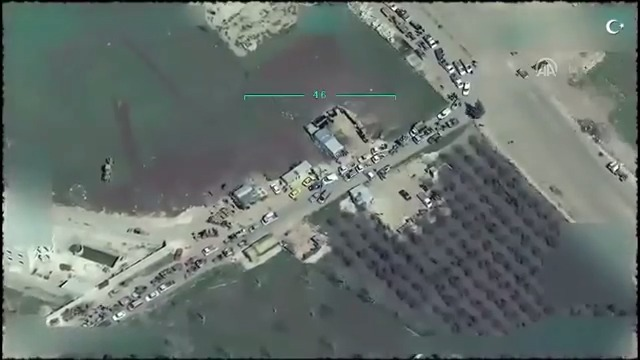arac: (98, 155, 119, 183), (409, 116, 431, 138), (421, 31, 440, 52), (202, 237, 220, 257), (416, 187, 433, 208), (320, 169, 341, 185), (111, 307, 131, 323), (371, 150, 395, 163), (317, 189, 335, 205), (458, 57, 476, 73), (159, 276, 179, 290), (146, 287, 162, 304), (462, 79, 477, 97), (262, 211, 278, 226), (399, 185, 415, 200), (444, 117, 462, 129), (288, 188, 305, 198), (270, 179, 282, 193)
